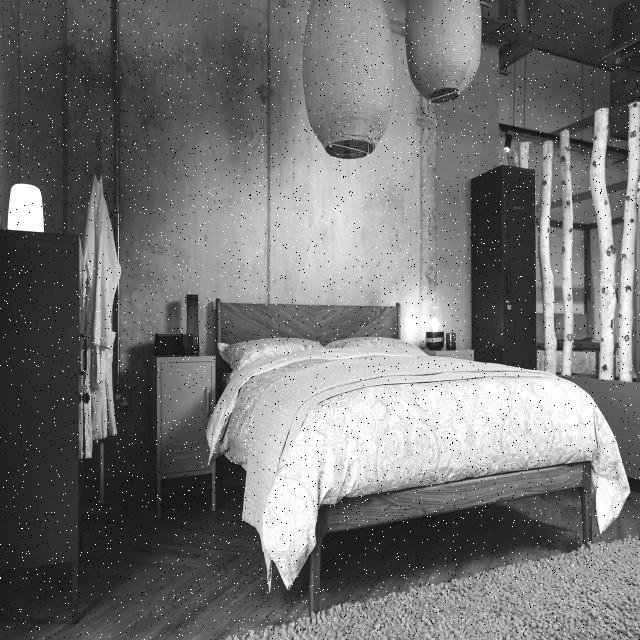bed: (211, 322, 615, 483)
